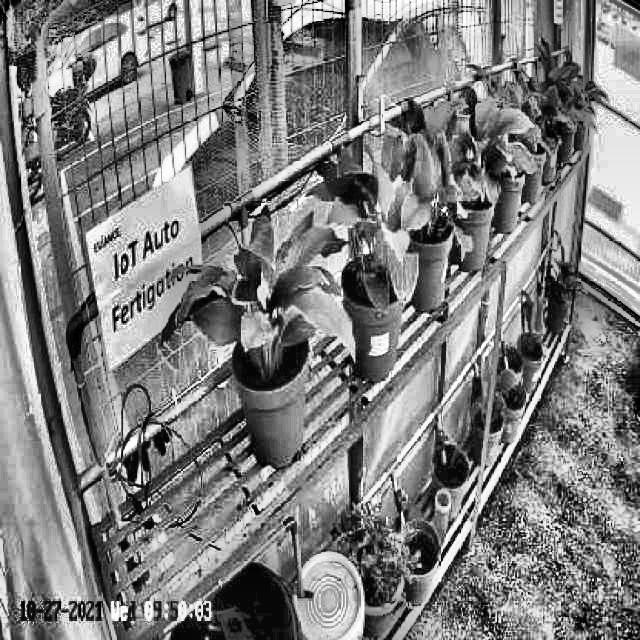plants: (163, 208, 357, 367), (319, 144, 421, 314), (423, 84, 537, 207), (382, 105, 478, 250)
